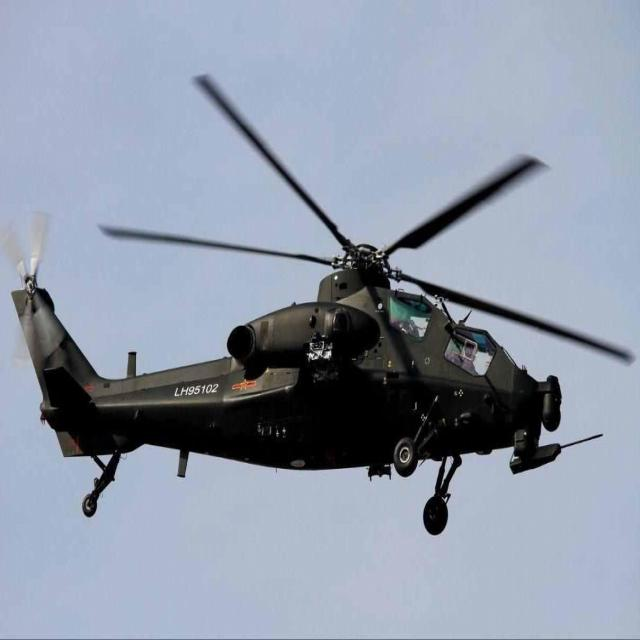MIL_HELO: (7, 93, 601, 544)
